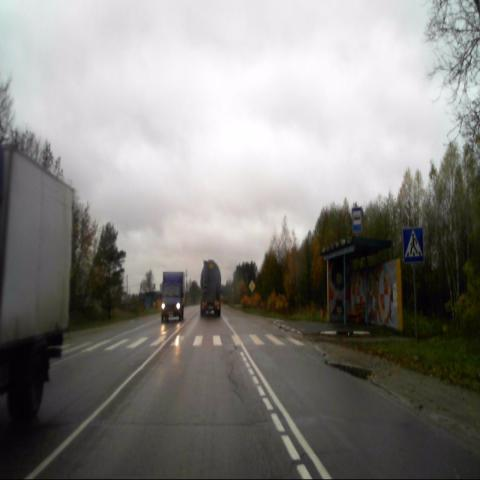5_16: (352, 205, 362, 230)
5_19_1: (403, 227, 423, 262)
